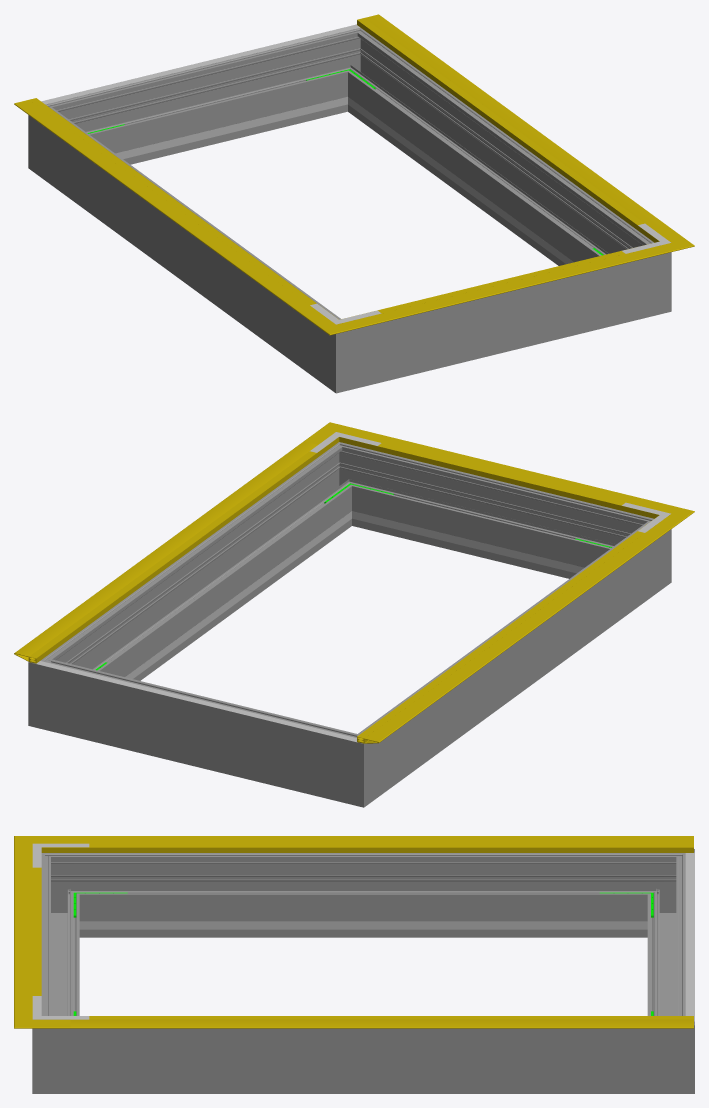
The picture shows the model from 3 angles, top to bottom: view 1: azimuth 30°, elevation 25°; view 2: azimuth 150°, elevation 25°; view 3: azimuth 270°, elevation 25°; orthographic projection. The views are drawn at different scales.
Visible parts, largest first — view 1: 3DGeom-298, 3DGeom-277, 3DGeom-299, 3DGeom-269, 3DGeom-145, 3DGeom-147, 3DGeom-271, 3DGeom-291, 3DGeom-285, 3DGeom-141, 3DGeom-154, 3DGeom-152 (+8 smaller); view 2: 3DGeom-298, 3DGeom-299, 3DGeom-277, 3DGeom-269, 3DGeom-145, 3DGeom-147, 3DGeom-279, 3DGeom-141, 3DGeom-285, 3DGeom-291, 3DGeom-154, 3DGeom-152 (+7 smaller); view 3: 3DGeom-269, 3DGeom-298, 3DGeom-147, 3DGeom-145, 3DGeom-233, 3DGeom-277, 3DGeom-299, 3DGeom-285, 3DGeom-291, 3DGeom-154, 3DGeom-279, 3DGeom-271 (+10 smaller).
Boxes of the visible parts, x1,y1,x2,y2 form: 3DGeom-298: [352, 44, 637, 265]; 3DGeom-277: [78, 37, 340, 164]; 3DGeom-299: [381, 263, 625, 382]; 3DGeom-269: [54, 120, 324, 373]; 3DGeom-145: [357, 14, 667, 236]; 3DGeom-147: [14, 100, 323, 315]; 3DGeom-271: [309, 307, 381, 393]; 3DGeom-291: [626, 230, 671, 322]; 3DGeom-285: [322, 27, 382, 114]; 3DGeom-141: [367, 250, 649, 324]; 3DGeom-154: [29, 98, 316, 305]; 3DGeom-152: [357, 18, 644, 224]; 3DGeom-298: [62, 458, 347, 680]; 3DGeom-299: [359, 451, 621, 578]; 3DGeom-277: [74, 667, 326, 796]; 3DGeom-269: [376, 534, 645, 787]; 3DGeom-145: [14, 441, 325, 663]; 3DGeom-147: [357, 525, 668, 743]; 3DGeom-279: [318, 721, 390, 807]; 3DGeom-141: [362, 433, 648, 514]; 3DGeom-285: [28, 644, 82, 736]; 3DGeom-291: [317, 442, 377, 528]; 3DGeom-154: [357, 531, 644, 739]; 3DGeom-152: [29, 451, 316, 659]; 3DGeom-269: [89, 853, 638, 937]; 3DGeom-298: [89, 1028, 638, 1093]; 3DGeom-147: [70, 836, 693, 852]; 3DGeom-145: [70, 1019, 693, 1028]; 3DGeom-233: [134, 921, 592, 929]; 3DGeom-277: [647, 873, 685, 1015]; 3DGeom-299: [41, 873, 79, 1015]; 3DGeom-285: [638, 1001, 694, 1093]; 3DGeom-291: [32, 1001, 88, 1093]; 3DGeom-154: [89, 843, 693, 847]; 3DGeom-279: [638, 849, 694, 937]; 3DGeom-271: [41, 853, 88, 937].
Size of the model in its own units: 1.22 by 0.2195 by 1.83.
